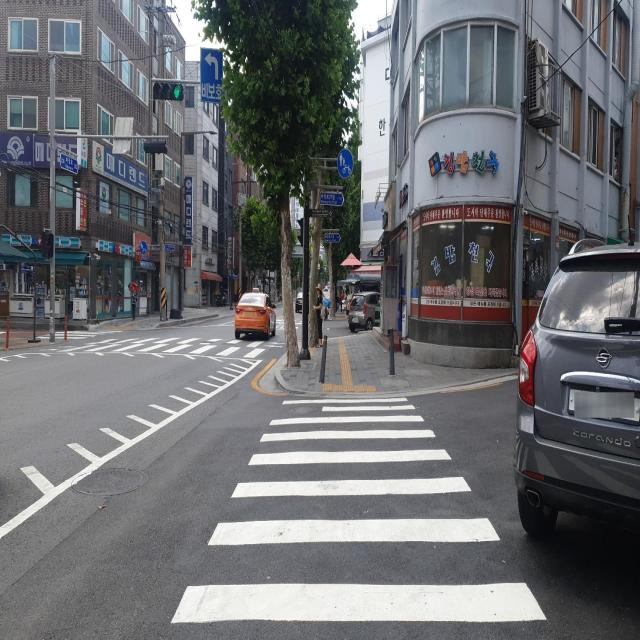횡단보도: (168, 394, 548, 630), (47, 332, 275, 366)
